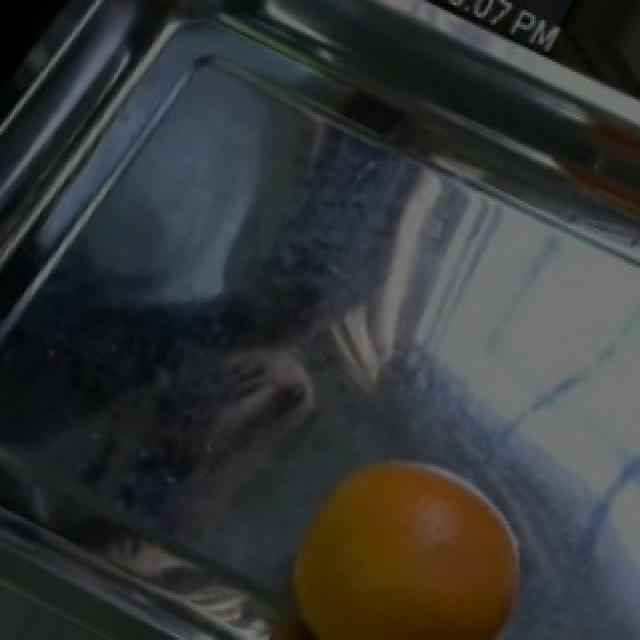Fruit: (266, 437, 536, 638)
